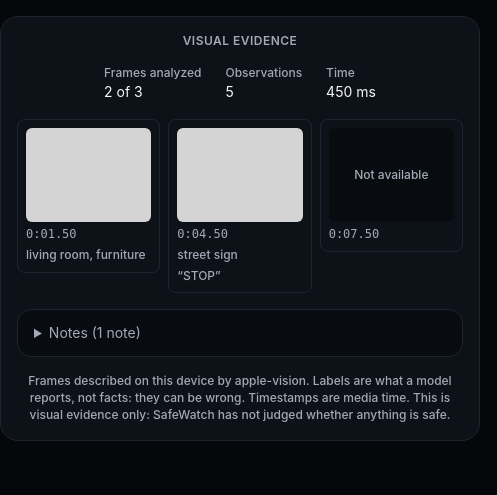
Test case: VisualPanel evidence › explains frames with no observations in the notes, in plain language
This screenshot has width=497, height=495.
Click the heading "Notes (1 note)".
click(95, 333)  # box [49,324,141,342]
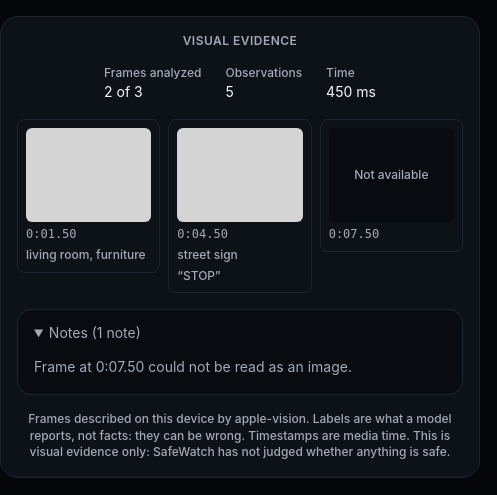
Result: the element "Visual evidence" shows "Frame at 0:07.50 could not be read as an image."
